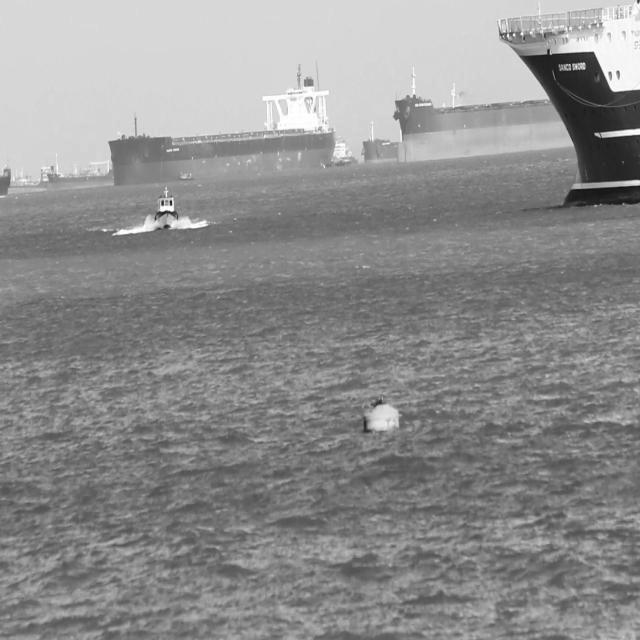buoy: (361, 386, 402, 434)
ship: (500, 0, 639, 213), (106, 66, 334, 190), (391, 64, 578, 168), (44, 158, 112, 192), (360, 121, 403, 166), (1, 164, 42, 199), (152, 184, 178, 233), (326, 138, 356, 166)
